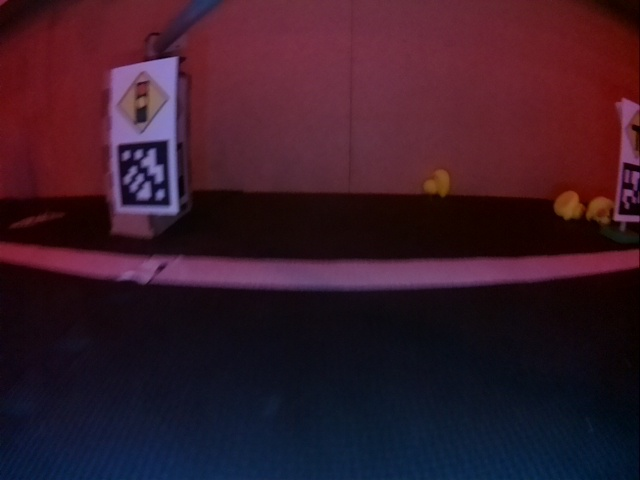Duckie: (554, 191, 585, 220), (424, 169, 450, 196), (586, 198, 614, 223)
Intersection sign: (623, 105, 640, 158)
QR code: (115, 141, 171, 208), (620, 163, 639, 218)
Signal sign: (116, 71, 170, 138)
